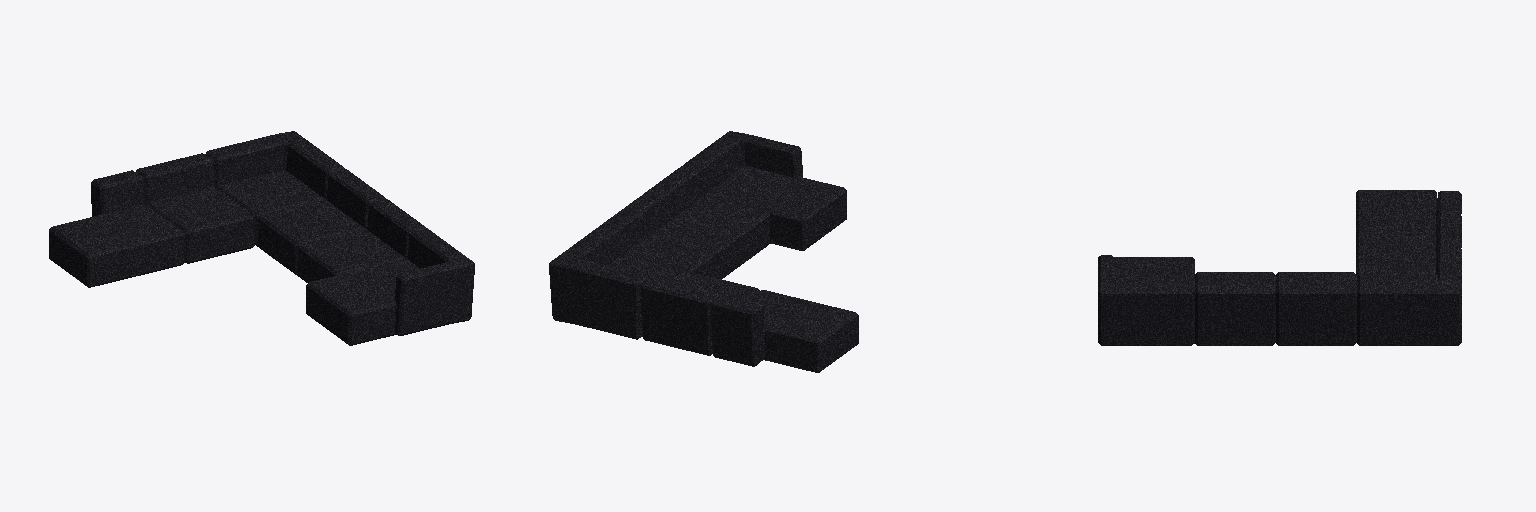
3 renders of one model, left to right at view 1: azimuth 30°, elevation 25°; view 2: azimuth 150°, elevation 25°; view 3: azimuth 270°, elevation 25°, orthographic.
Parts seen in each view (by area): view 1: Cube.002_Cube.004; view 2: Cube.002_Cube.004; view 3: Cube.002_Cube.004.
Part boxes in pixels (bbox=[...]): Cube.002_Cube.004: bbox=[49, 131, 474, 345]; Cube.002_Cube.004: bbox=[549, 131, 858, 372]; Cube.002_Cube.004: bbox=[1098, 190, 1461, 345].
Size of the model in its own units: 3.71 by 0.8138 by 4.49.
Materials: 1 (1 with a texture image).